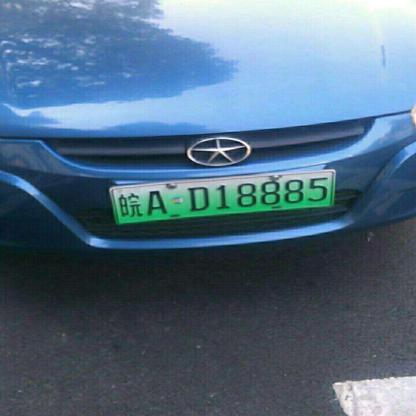lp: (113, 171, 335, 222)
